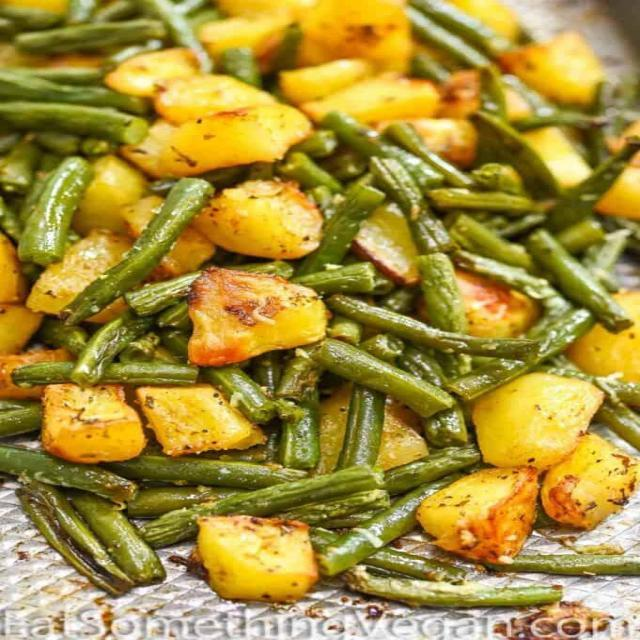Beans: (0, 0, 638, 616)
